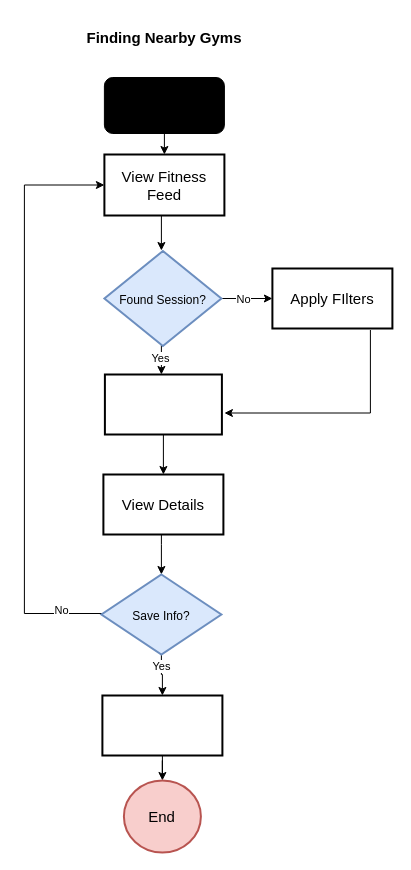
This 411x870 diagram has some shape labels left out. Each missing label, with the centre of its shape:
Add to Profile: point 162,725
Select Gym: point 162,404
View Home Feed: point 163,105
